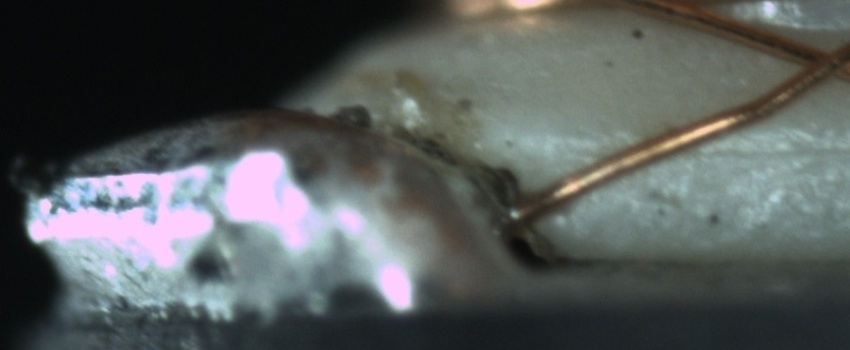CL: (784, 33, 847, 90)
DL: (557, 117, 849, 181)
